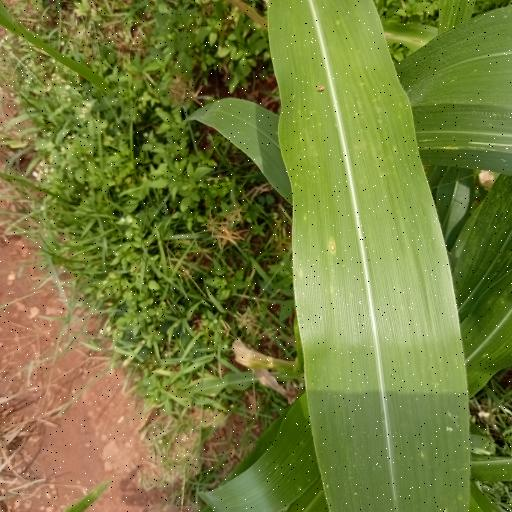Corn_Brown_Spots: (266, 0, 479, 512)
